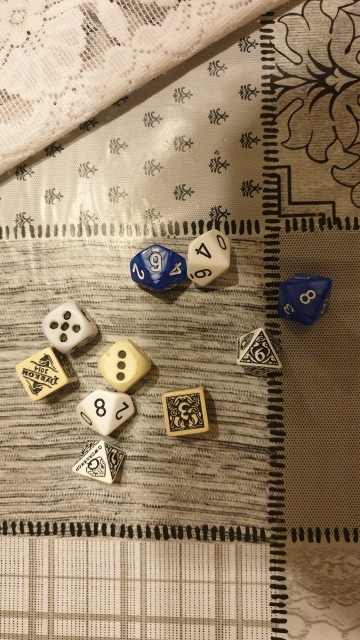d10-4: (180, 228, 241, 292)
d10-6: (126, 241, 187, 293)
d10-8: (274, 265, 338, 330), (71, 386, 144, 438)
d6-3: (92, 337, 154, 391)
d6-5: (38, 300, 97, 352)
d6p-1: (16, 346, 75, 404)
d6p-3: (158, 385, 213, 439)
d8p-6: (234, 324, 291, 386)
d8p-8: (71, 437, 131, 492)
